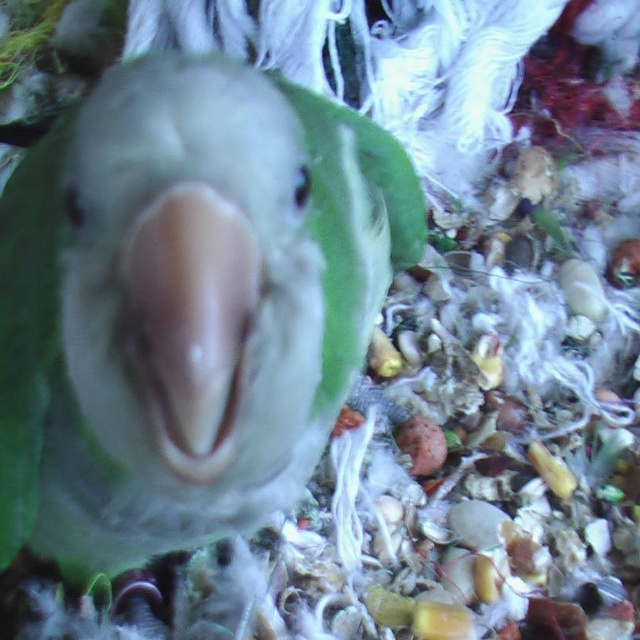Parrot: (0, 49, 428, 639)
